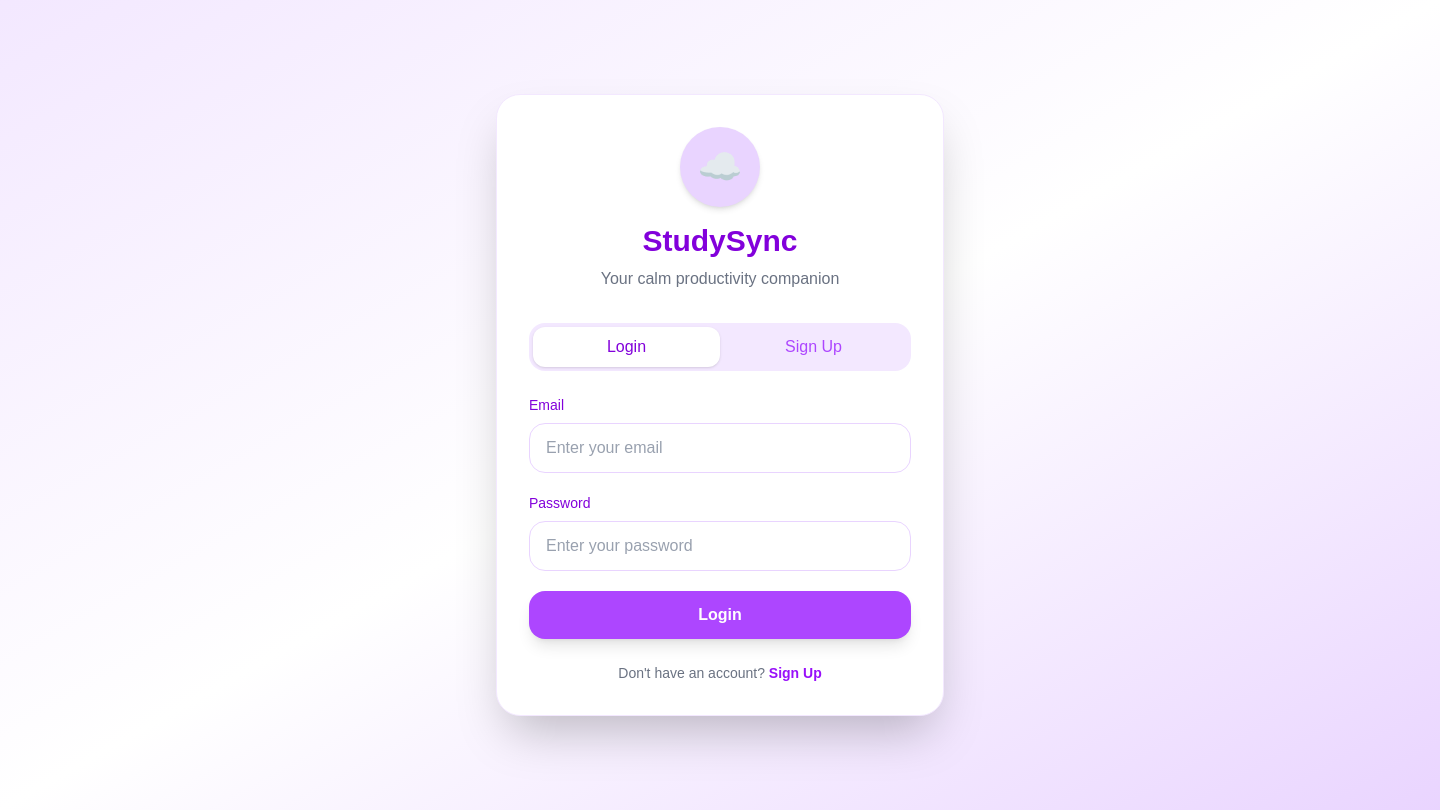
Test: LoginPage › shows API error message when login fails
Type "test@example.com" into the field with placeholder "Enter your email" at (720, 448), box [529,423,911,473]
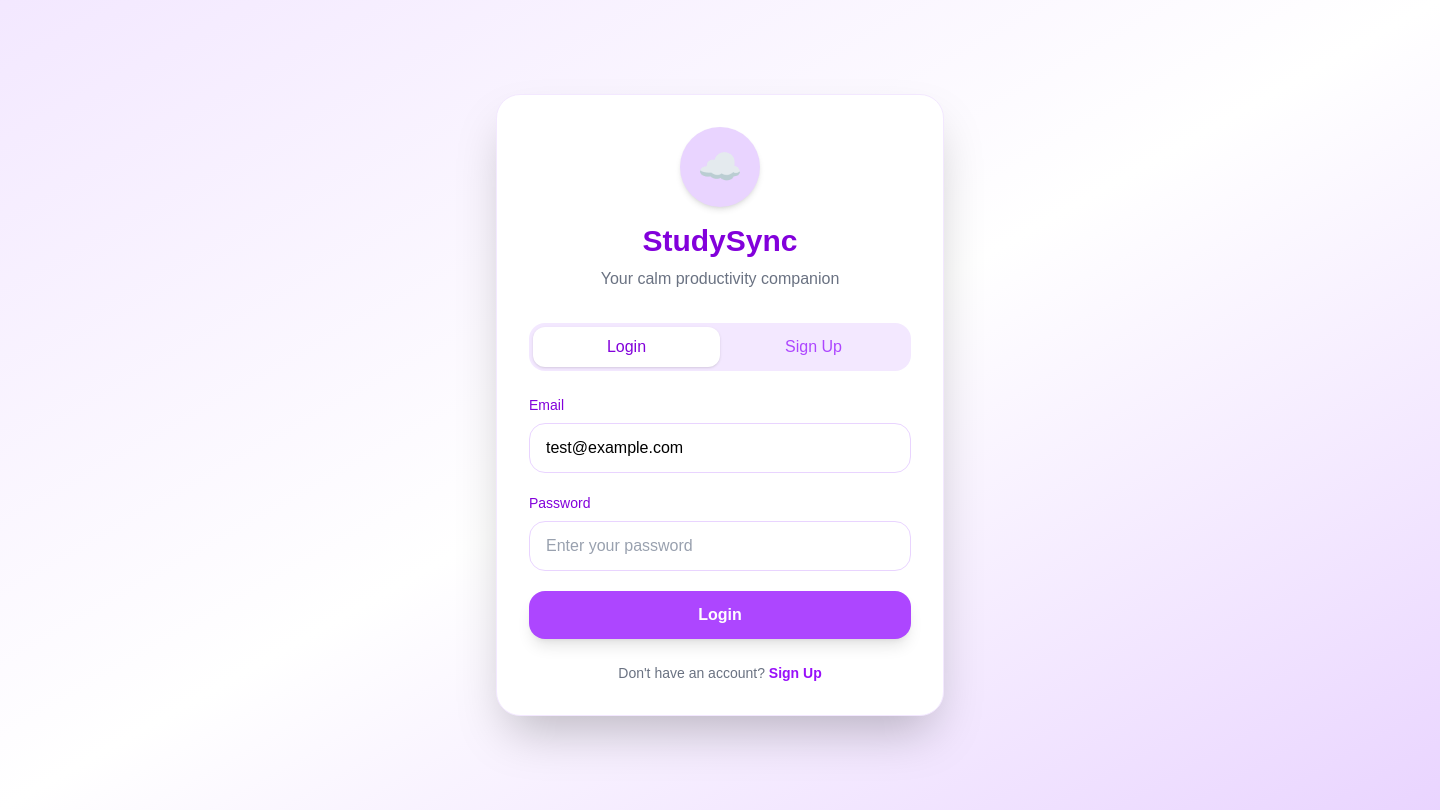
Type "wrongpass" into the password field with placeholder "Enter your password" at (720, 546), box [529,521,911,571]
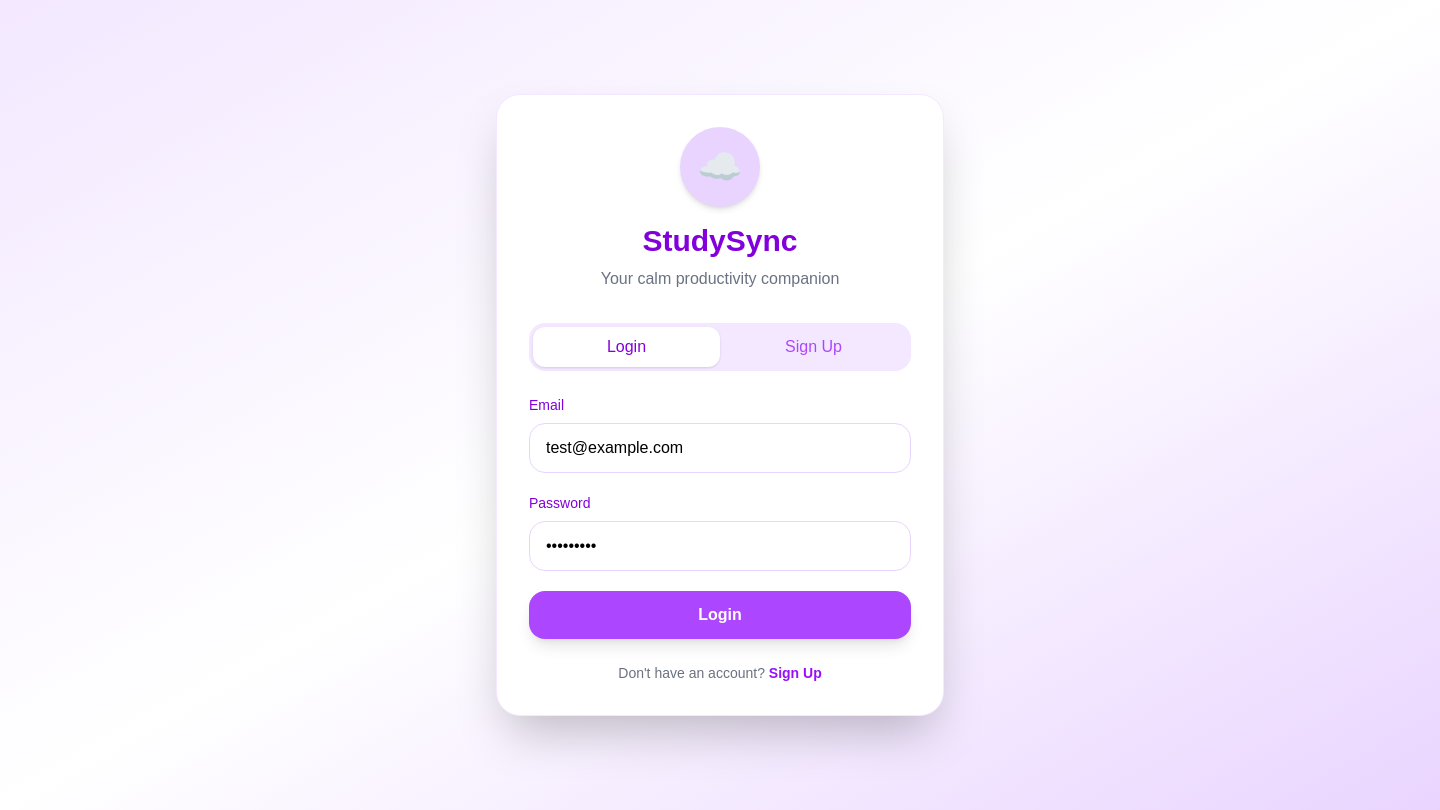
Click the button "Login" below "Password" at (720, 615), box [529,591,911,639]
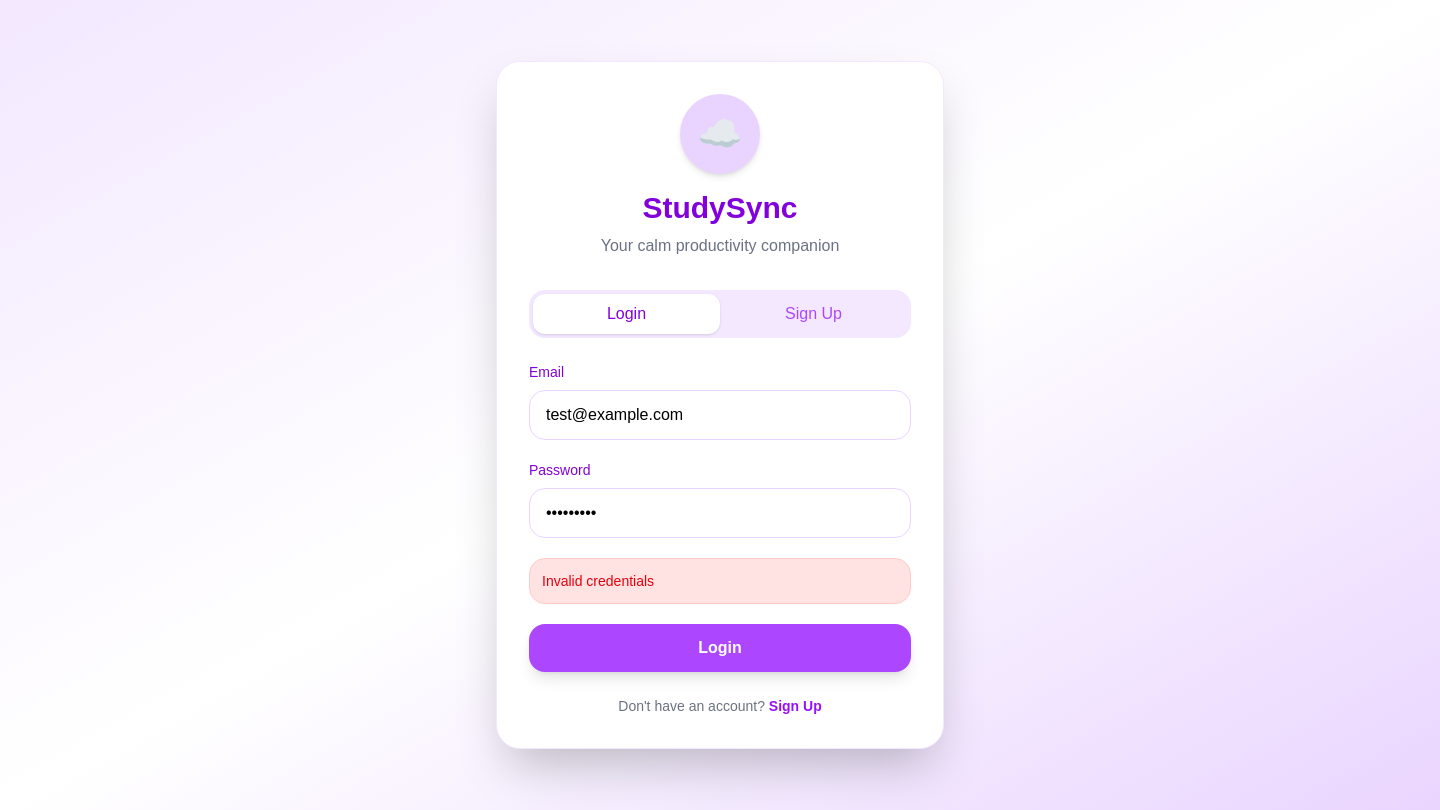
Expected: the text "Invalid credentials" is shown, [529,558,911,604]
